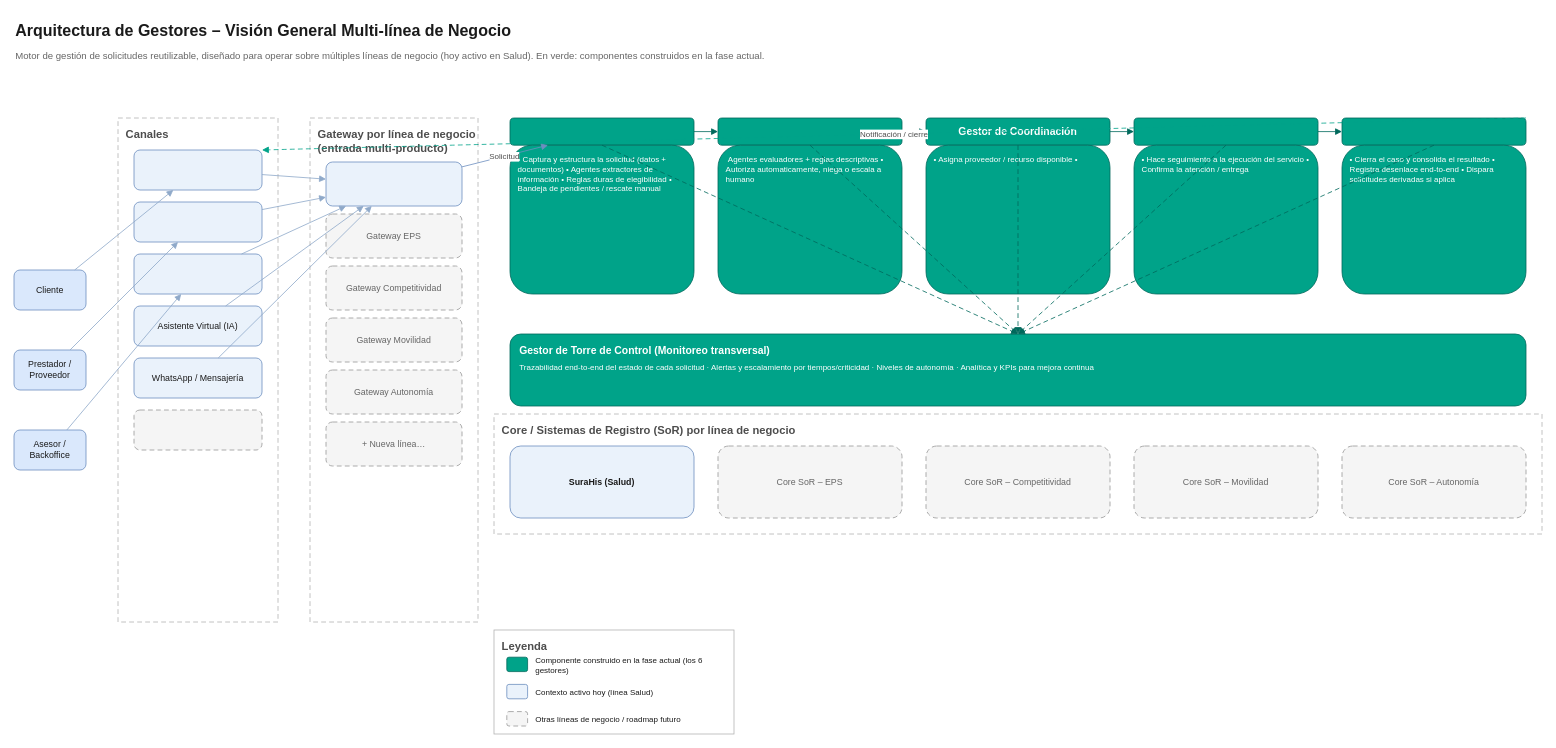
This 1556x748 diagram has some shape labels left out. The centre of each missing label's shape, as x and y in pixels:
"App / Portal Cliente" belongs at pixel 197 169.
"Consola Asesor" belongs at pixel 197 273.
"Gateway Salud" belongs at pixel 393 183.
"Gestor de Evaluación" belongs at pixel 809 131.
"Gestor de Finalización" belongs at pixel 1433 131.
"Gestor de Prestación" belongs at pixel 1225 131.
"Gestor de Solicitudes" belongs at pixel 601 131.
"Nuevo canal…" belongs at pixel 197 429.
"Portal / App Proveedor" belongs at pixel 197 221.
